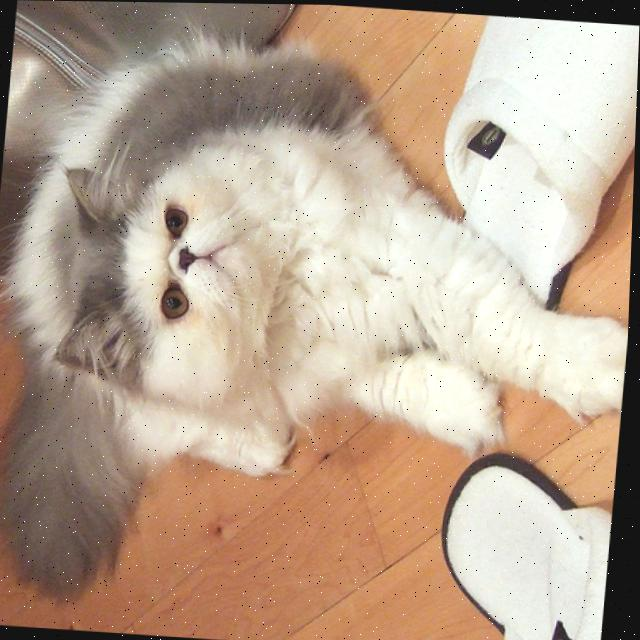Persian: (0, 22, 639, 640)
